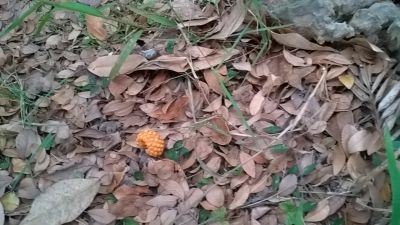eggs: (137, 129, 165, 158)
